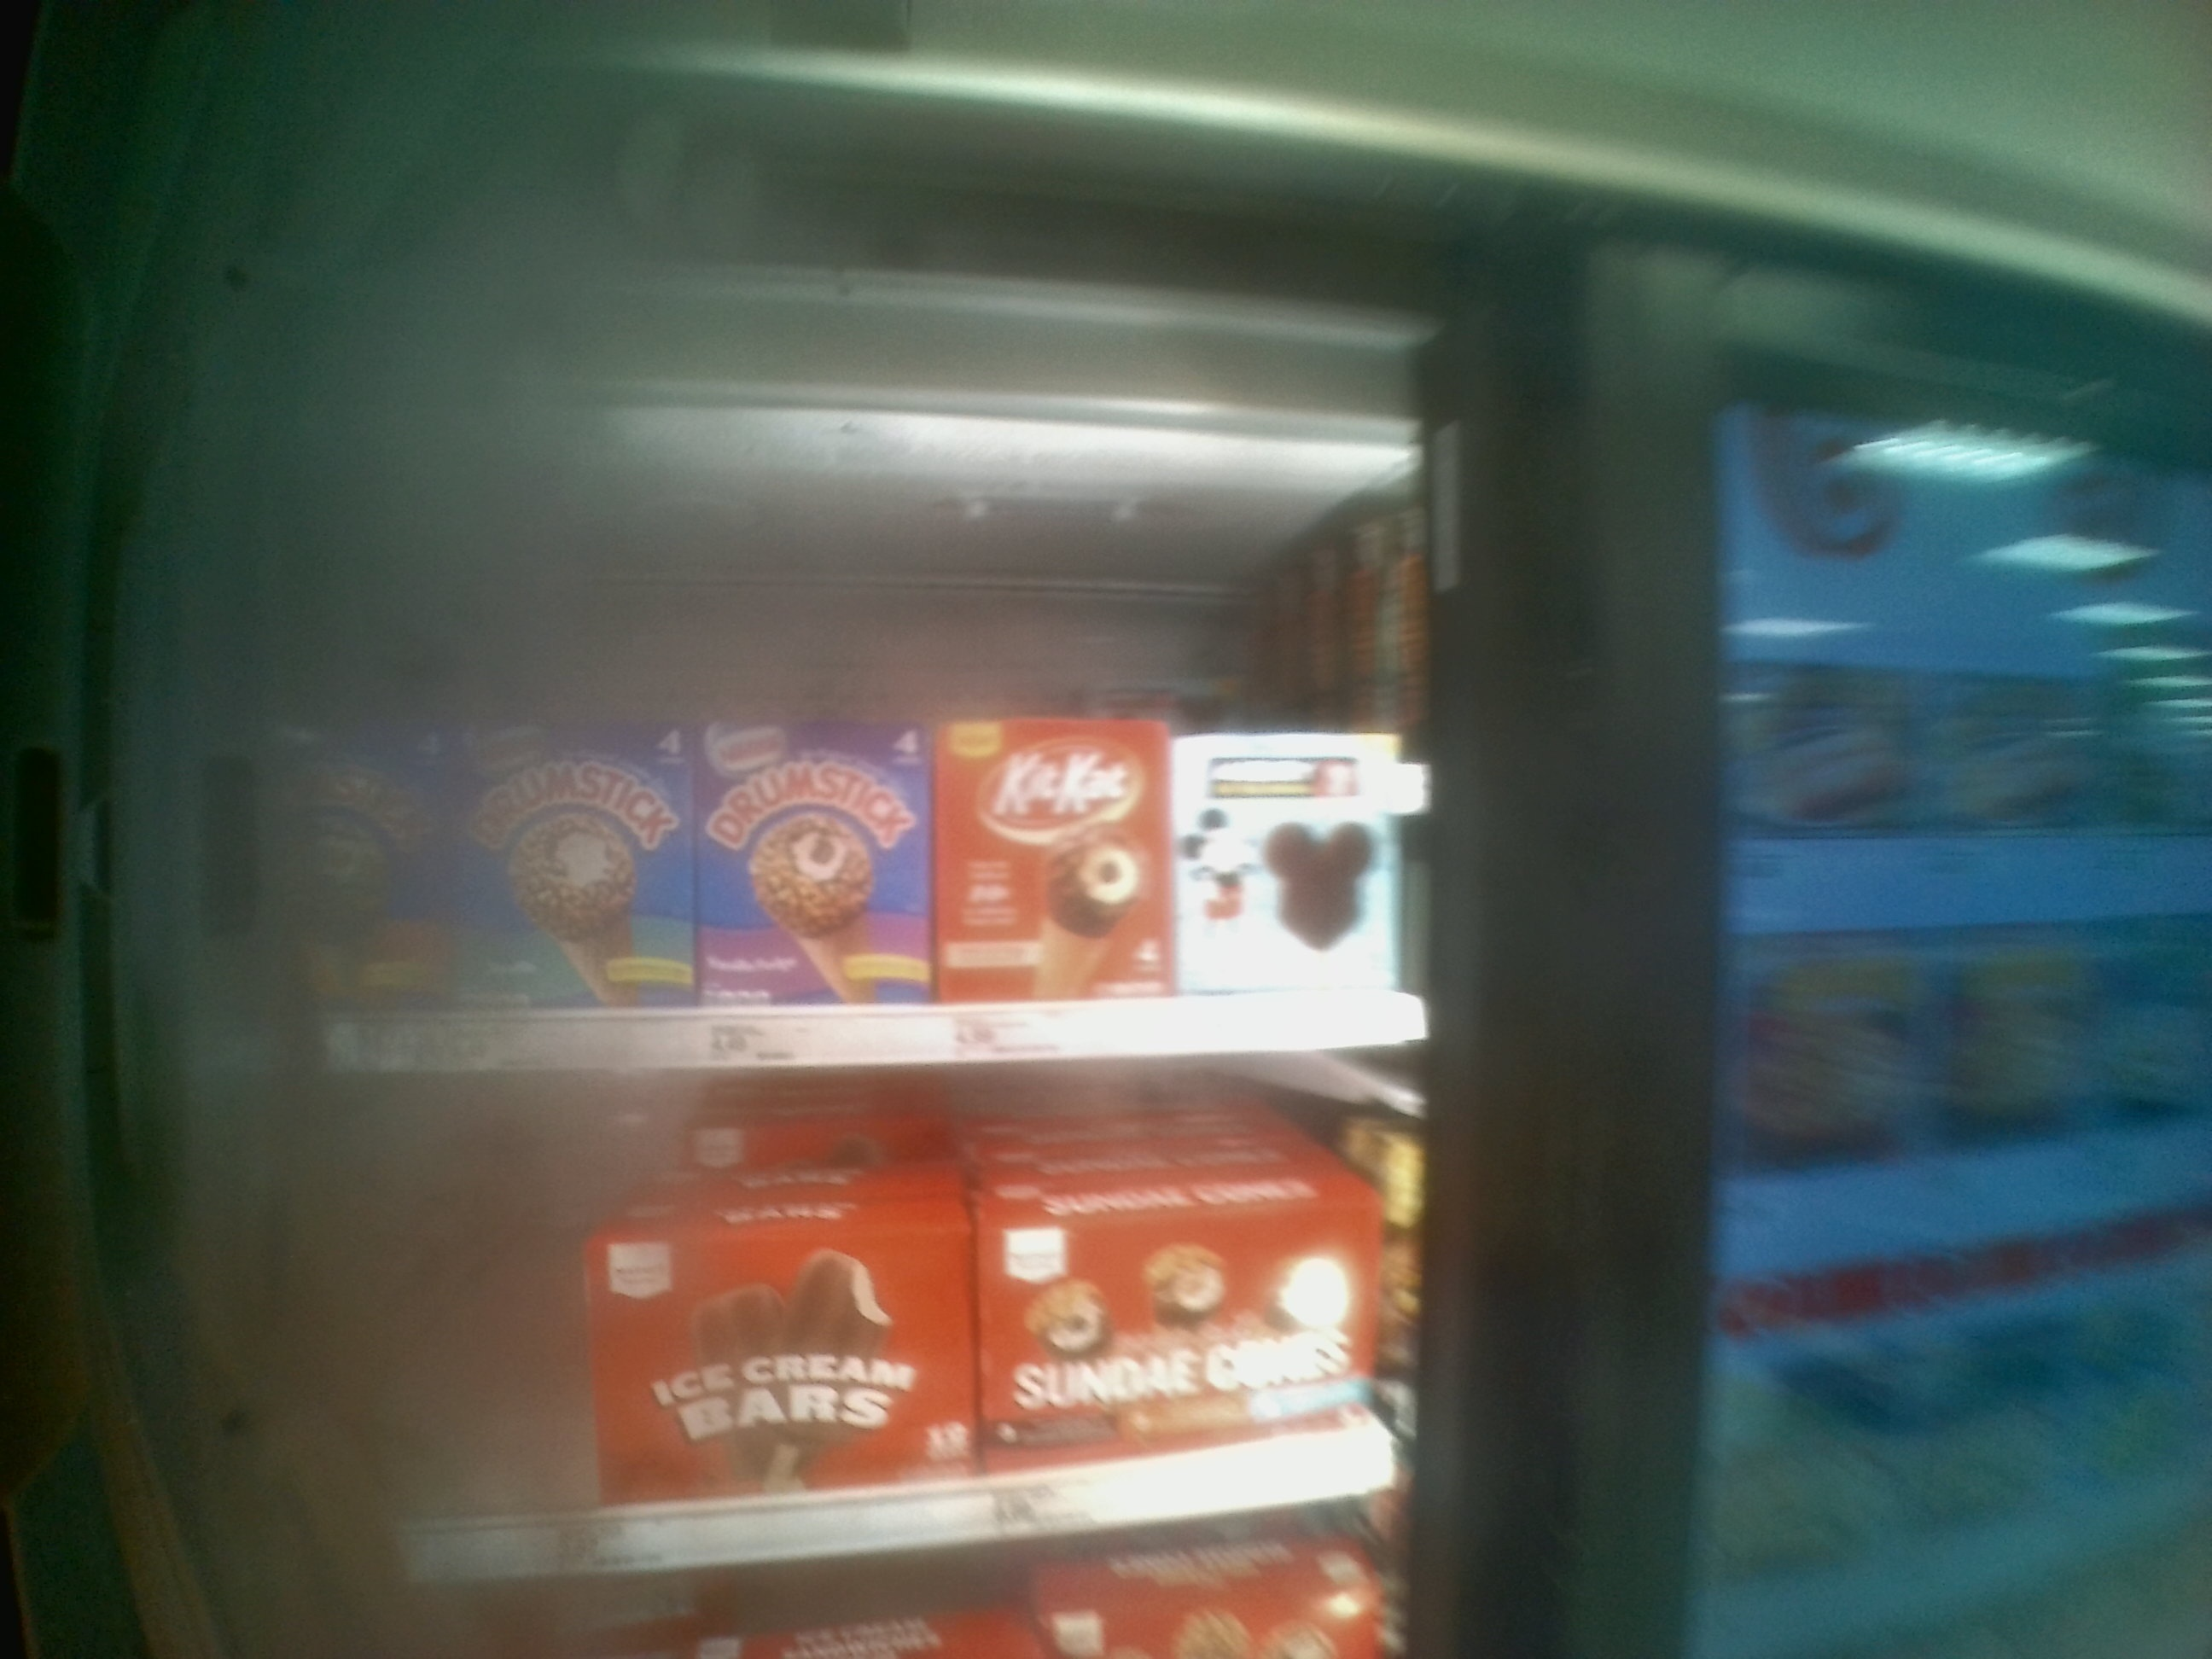frozen-food-shelf: (138, 533, 1456, 1082), (138, 1086, 1428, 1601)
